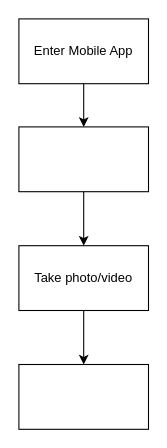
Image size: 167x448. Some labels were removed from this diagram. Each missing label, with the centre of its shape:
"Start Car" goes at point 83,159.
"Upload photo/video to web application" goes at point 83,396.
